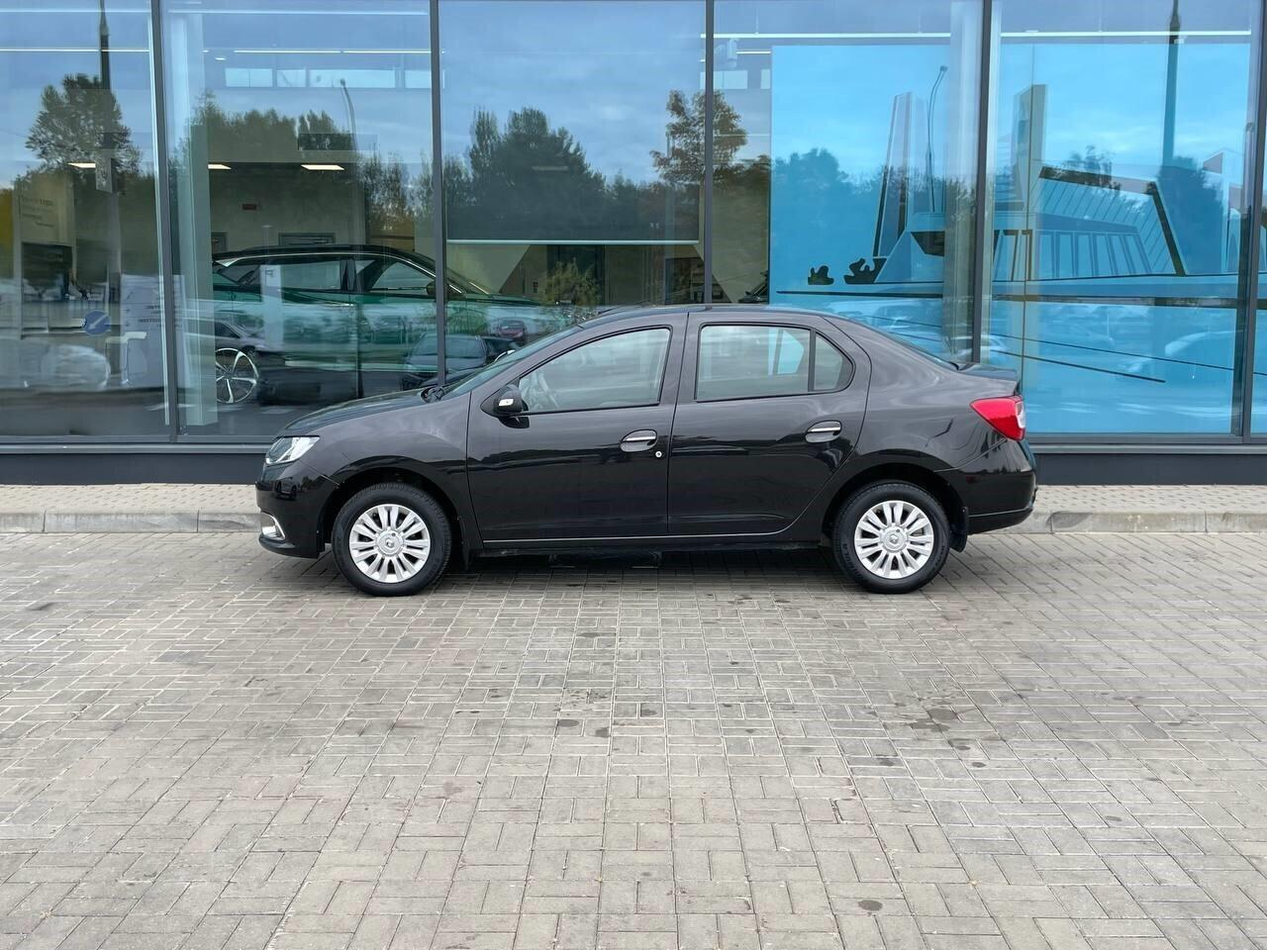Logan_2013-2018: (252, 296, 1047, 599)
